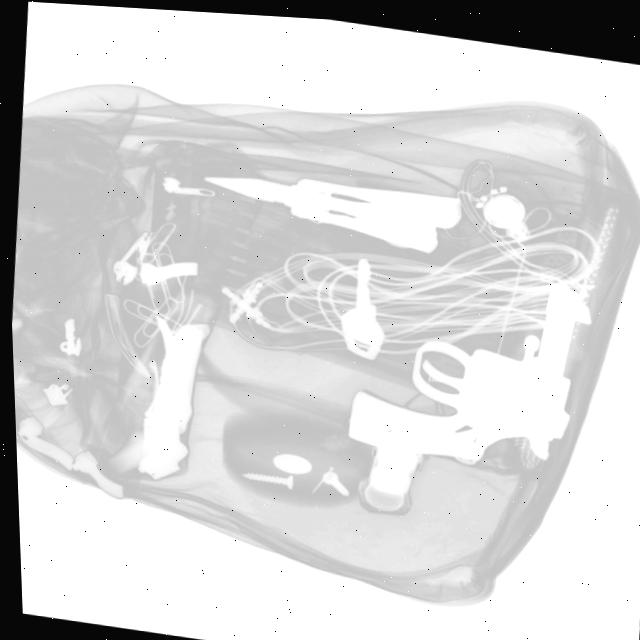pistol: (330, 249, 599, 479)
